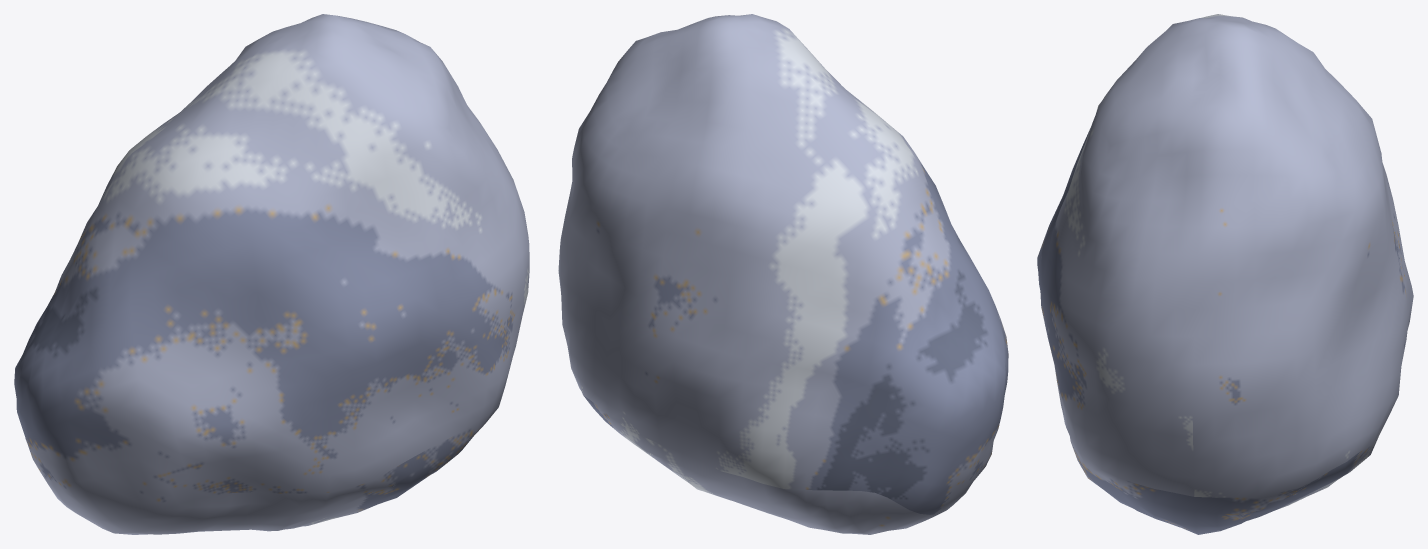
Rendered from SM_Rock_004.fbx.
3 views of the same model, side by side, from view 1: azimuth 30°, elevation 25°; view 2: azimuth 150°, elevation 25°; view 3: azimuth 270°, elevation 25° (orthographic). The views are drawn at different scales.
Parts seen in each view (by area): view 1: rock.004; view 2: rock.004; view 3: rock.004.
Boxes of the visible parts, x1,y1,x2,y2 form: rock.004: (14,14,529,534); rock.004: (558,14,1008,534); rock.004: (1037,14,1413,534).
Bounding box in the file's own units: 2.71 × 1.85 × 2.77.
